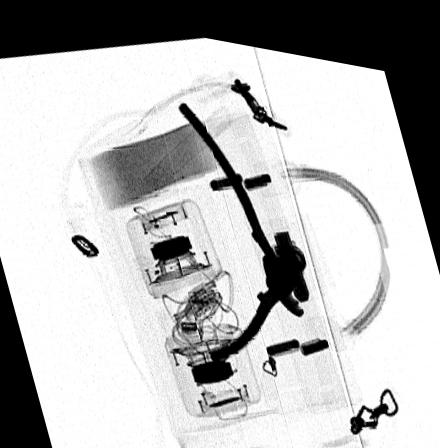Pliers: (175, 95, 306, 355)
